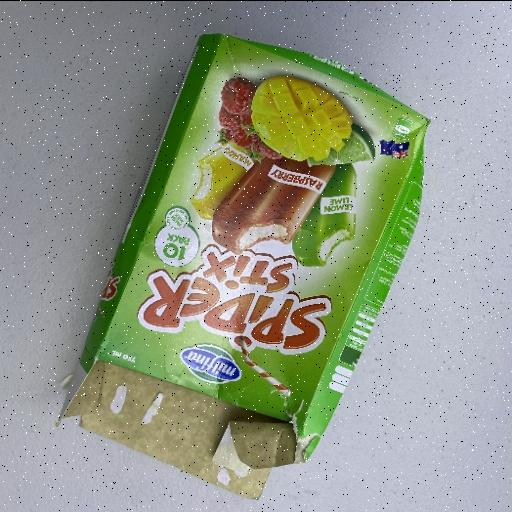Cardboard: (56, 30, 431, 498)
